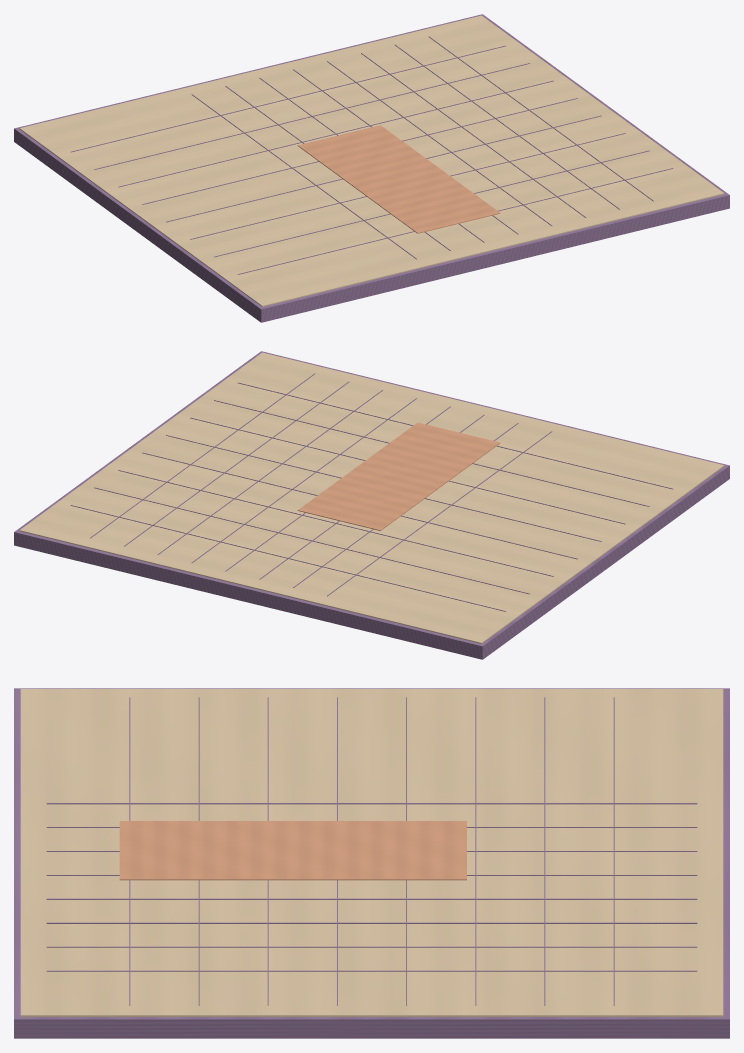
File: atlas100-s085-a07.lod1.glb
3 renders of one model, top to bottom at view 1: azimuth 30°, elevation 25°; view 2: azimuth 150°, elevation 25°; view 3: azimuth 270°, elevation 25°, orthographic. The views are drawn at different scales.
Visible parts, largest first — view 1: atlas100-s085-a07:part-001, atlas100-s085-a07:part-000, atlas100-s085-a07:part-021, atlas100-s085-a07:part-015, atlas100-s085-a07:part-013, atlas100-s085-a07:part-014, atlas100-s085-a07:part-017, atlas100-s085-a07:part-019, atlas100-s085-a07:part-016, atlas100-s085-a07:part-018, atlas100-s085-a07:part-020; view 2: atlas100-s085-a07:part-001, atlas100-s085-a07:part-000, atlas100-s085-a07:part-021, atlas100-s085-a07:part-013, atlas100-s085-a07:part-015, atlas100-s085-a07:part-014, atlas100-s085-a07:part-016, atlas100-s085-a07:part-018, atlas100-s085-a07:part-017, atlas100-s085-a07:part-019, atlas100-s085-a07:part-020; view 3: atlas100-s085-a07:part-001, atlas100-s085-a07:part-000, atlas100-s085-a07:part-021, atlas100-s085-a07:part-009, atlas100-s085-a07:part-011, atlas100-s085-a07:part-012, atlas100-s085-a07:part-005, atlas100-s085-a07:part-010, atlas100-s085-a07:part-015, atlas100-s085-a07:part-013, atlas100-s085-a07:part-014.
Boxes of the visible parts, x1,y1,x2,y2 form: atlas100-s085-a07:part-001: [19, 15, 724, 306]; atlas100-s085-a07:part-000: [14, 14, 729, 322]; atlas100-s085-a07:part-021: [297, 125, 500, 233]; atlas100-s085-a07:part-015: [118, 80, 553, 187]; atlas100-s085-a07:part-013: [71, 45, 505, 152]; atlas100-s085-a07:part-014: [94, 63, 529, 169]; atlas100-s085-a07:part-017: [166, 115, 601, 222]; atlas100-s085-a07:part-019: [214, 150, 649, 257]; atlas100-s085-a07:part-016: [142, 98, 577, 204]; atlas100-s085-a07:part-018: [190, 133, 625, 239]; atlas100-s085-a07:part-020: [238, 168, 673, 274]; atlas100-s085-a07:part-001: [19, 352, 724, 643]; atlas100-s085-a07:part-000: [14, 351, 729, 659]; atlas100-s085-a07:part-021: [297, 422, 500, 530]; atlas100-s085-a07:part-013: [70, 505, 505, 611]; atlas100-s085-a07:part-015: [118, 470, 553, 576]; atlas100-s085-a07:part-014: [94, 487, 529, 594]; atlas100-s085-a07:part-016: [142, 452, 577, 559]; atlas100-s085-a07:part-018: [190, 417, 625, 524]; atlas100-s085-a07:part-017: [166, 435, 601, 541]; atlas100-s085-a07:part-019: [214, 400, 649, 506]; atlas100-s085-a07:part-020: [238, 382, 672, 489]; atlas100-s085-a07:part-001: [20, 689, 723, 1016]; atlas100-s085-a07:part-000: [14, 688, 729, 1038]; atlas100-s085-a07:part-021: [119, 821, 466, 880]; atlas100-s085-a07:part-009: [46, 898, 697, 899]; atlas100-s085-a07:part-011: [46, 946, 697, 947]; atlas100-s085-a07:part-012: [46, 970, 697, 971]; atlas100-s085-a07:part-005: [46, 803, 697, 804]; atlas100-s085-a07:part-010: [46, 922, 697, 923]; atlas100-s085-a07:part-015: [475, 697, 476, 1005]; atlas100-s085-a07:part-013: [613, 697, 614, 1005]; atlas100-s085-a07:part-014: [544, 697, 545, 1005].
Size of the model in its own units: 12.46 by 0.404 by 11.39.
Materials: 3 (3 with a texture image).
